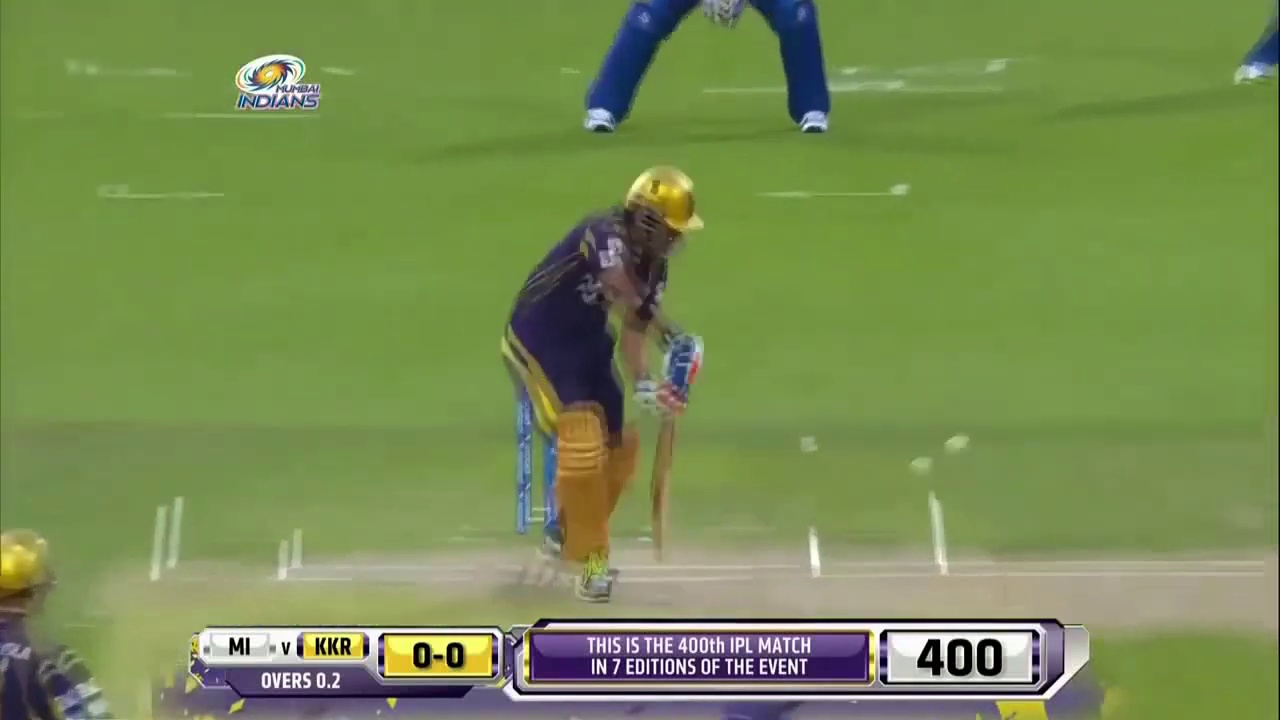bat: (650, 418, 674, 533)
